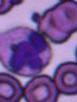N: (0, 26, 52, 78)
